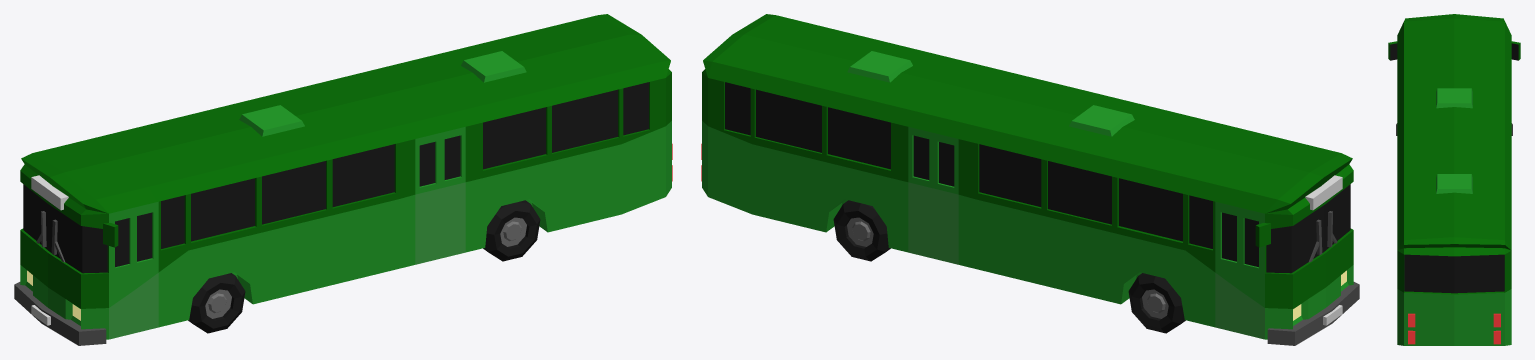
File: bus.glb
3 views of the same model, side by side, from view 1: azimuth 30°, elevation 25°; view 2: azimuth 150°, elevation 25°; view 3: azimuth 270°, elevation 25° (orthographic). The views are drawn at different scales.
Parts seen in each view (by area): view 1: Bus_Green, WheelB_3, WheelB_4; view 2: Bus_Green, WheelB_1, WheelB_2; view 3: Bus_Green.
Boxes of the visible parts, box(x1,y1,x2,y2) form: Bus_Green: box(14, 14, 672, 345); WheelB_3: box(483, 200, 540, 261); WheelB_4: box(188, 273, 245, 333); Bus_Green: box(701, 14, 1359, 345); WheelB_1: box(833, 200, 890, 261); WheelB_2: box(1128, 273, 1185, 333); Bus_Green: box(1388, 14, 1520, 345).
Size of the model in its own units: 10.35 by 2.75 by 2.47.
Materials: 5 (5 with a texture image).
